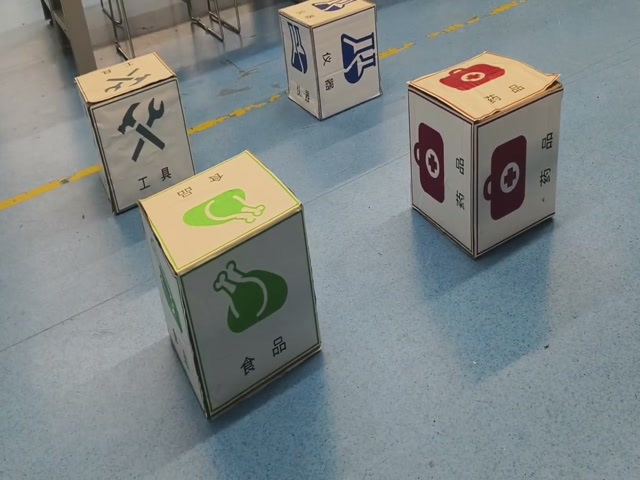Cube_food: (136, 146, 305, 279)
Cube_ins: (278, 1, 378, 30)
Cube_medicine: (406, 46, 564, 126)
Cube_tool: (74, 51, 175, 108)
